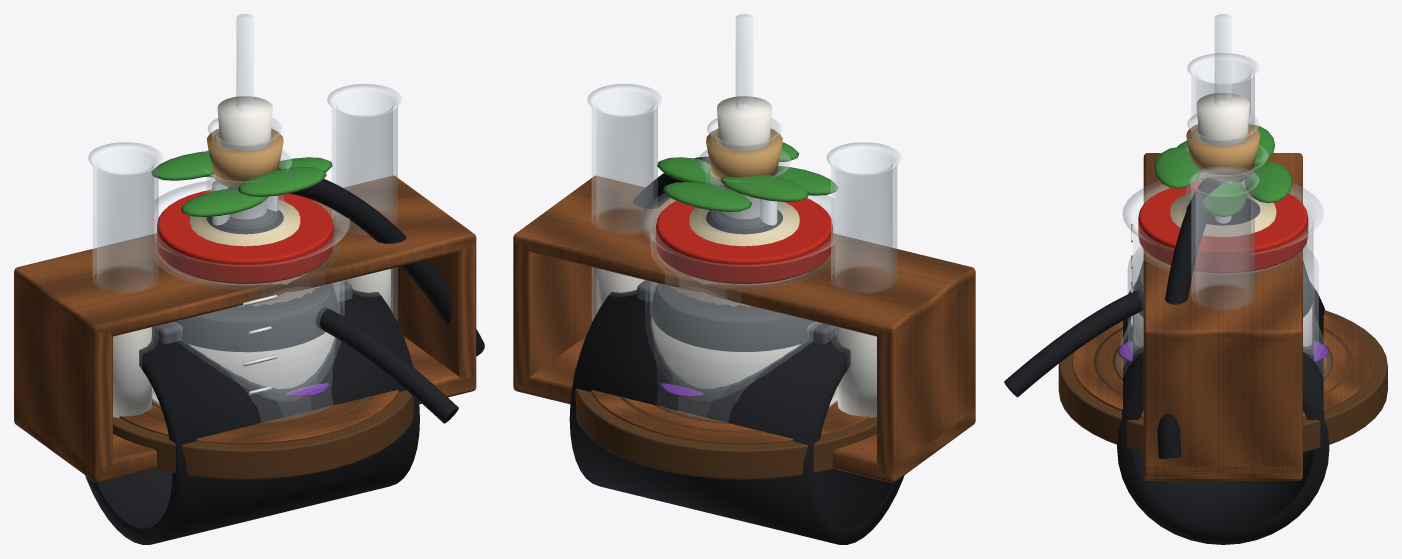
The model's file is bench-props.glb.
3 views of the same model, side by side, from view 1: azimuth 30°, elevation 25°; view 2: azimuth 150°, elevation 25°; view 3: azimuth 270°, elevation 25° (orthographic). The views are drawn at different scales.
Visible parts, largest first — view 1: Prop_rack, Prop_cuff, Prop_jar, Prop_disc, Prop_bulb, Prop_flask, Prop_jug, Prop_pot, Prop_pestle, Prop_coil, Prop_rod; view 2: Prop_rack, Prop_cuff, Prop_jar, Prop_disc, Prop_flask, Prop_jug, Prop_bulb, Prop_pot, Prop_pestle, Prop_coil, Prop_rod; view 3: Prop_rack, Prop_cuff, Prop_disc, Prop_jar, Prop_flask, Prop_jug, Prop_bulb, Prop_pot, Prop_pestle, Prop_coil, Prop_rod, Prop_butterfly.
Boxes of the visible parts, x1,y1,x2,y2 form: Prop_rack: (14, 84, 476, 482); Prop_cuff: (85, 280, 458, 544); Prop_jar: (157, 190, 344, 399); Prop_disc: (113, 390, 413, 479); Prop_bulb: (174, 168, 484, 356); Prop_flask: (152, 128, 334, 421); Prop_jug: (154, 180, 349, 394); Prop_pot: (151, 151, 332, 216); Prop_pestle: (217, 96, 272, 218); Prop_coil: (181, 199, 319, 306); Prop_rod: (236, 14, 253, 110); Prop_rack: (513, 84, 975, 482); Prop_cuff: (569, 280, 904, 544); Prop_jar: (645, 198, 832, 399); Prop_disc: (573, 367, 876, 479); Prop_flask: (654, 129, 837, 421); Prop_jug: (640, 193, 841, 322); Prop_bulb: (595, 156, 814, 351); Prop_pot: (657, 142, 837, 211); Prop_pestle: (717, 96, 771, 218); Prop_coil: (670, 201, 808, 306); Prop_rod: (736, 14, 752, 110); Prop_rack: (1143, 53, 1302, 480); Prop_cuff: (1004, 281, 1329, 544); Prop_disc: (1058, 310, 1387, 452); Prop_jar: (1128, 181, 1318, 354); Prop_flask: (1115, 124, 1330, 377); Prop_jug: (1122, 181, 1323, 326); Prop_bulb: (1134, 178, 1313, 458); Prop_pot: (1154, 124, 1292, 216); Prop_pestle: (1196, 93, 1249, 187); Prop_coil: (1162, 190, 1289, 274); Prop_rod: (1215, 14, 1231, 106); Prop_butterfly: (1117, 341, 1329, 361).
Bounding box in the file's own units: 0.8392 × 0.98 × 0.7229.
44 materials, 1 textured.
